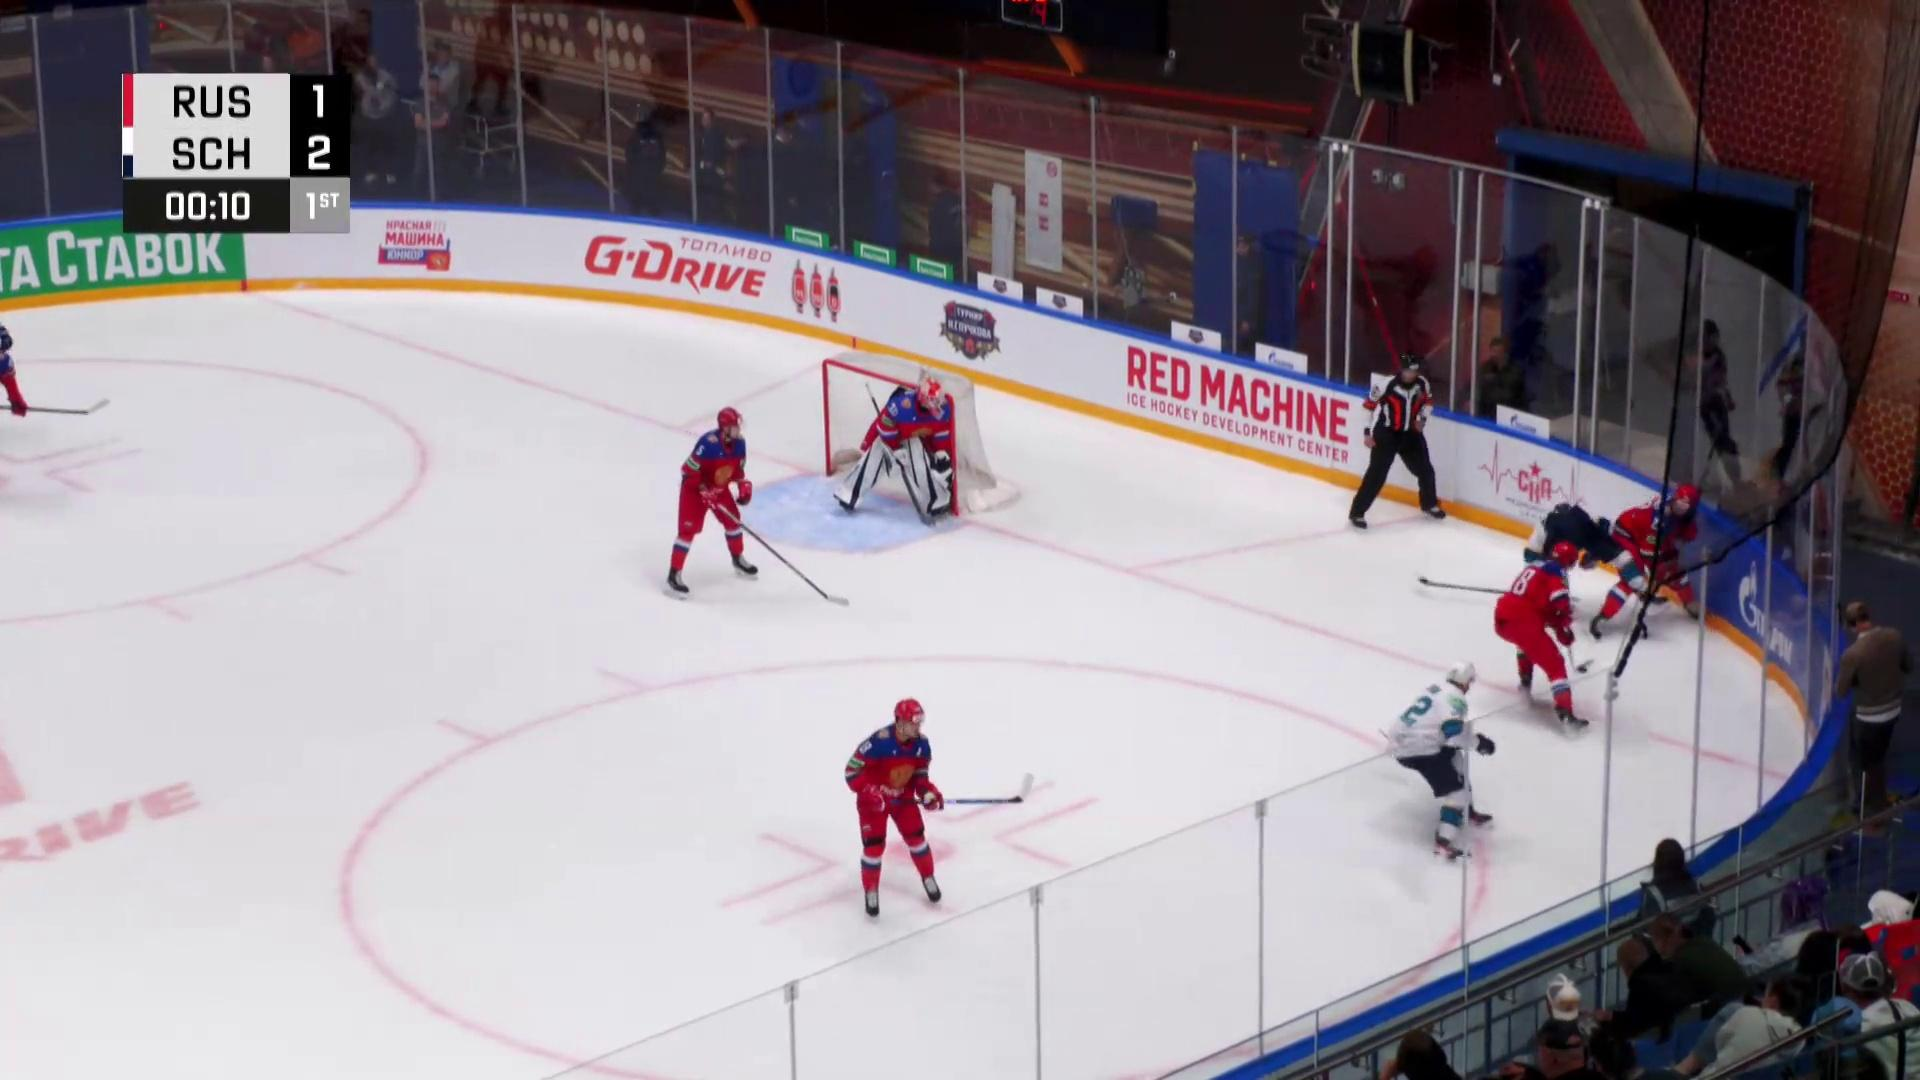ball: (1578, 667, 1588, 674)
